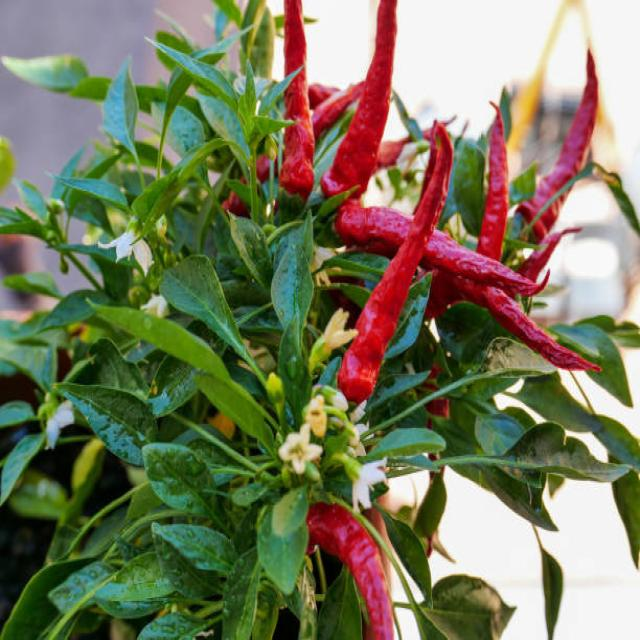Ripe: (340, 139, 452, 400), (336, 202, 553, 297), (427, 271, 598, 368), (321, 0, 396, 199), (518, 50, 597, 228), (306, 502, 392, 639), (279, 0, 314, 198), (477, 107, 508, 258)
